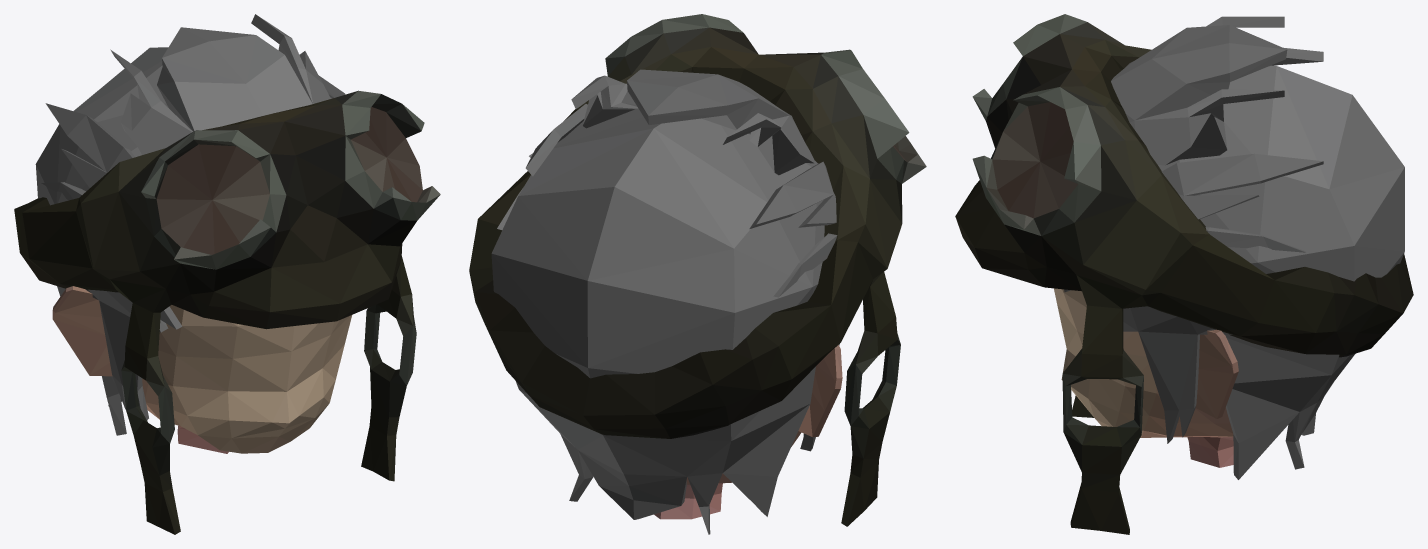
Rendered from helm_lightskin_spike_gray_goggles.fbx.
3 views of the same model, side by side, from view 1: azimuth 30°, elevation 25°; view 2: azimuth 150°, elevation 25°; view 3: azimuth 270°, elevation 25° (orthographic). The views are drawn at different scales.
Parts seen in each view (by area): view 1: helm_lightskin_spike_gray_goggles; view 2: helm_lightskin_spike_gray_goggles; view 3: helm_lightskin_spike_gray_goggles.
Part boxes in pixels (x1,y1,x2,y2): helm_lightskin_spike_gray_goggles: [14, 14, 440, 534]; helm_lightskin_spike_gray_goggles: [469, 14, 926, 534]; helm_lightskin_spike_gray_goggles: [955, 14, 1413, 534].
Size of the model in its own units: 1.21 by 1.45 by 1.39.
